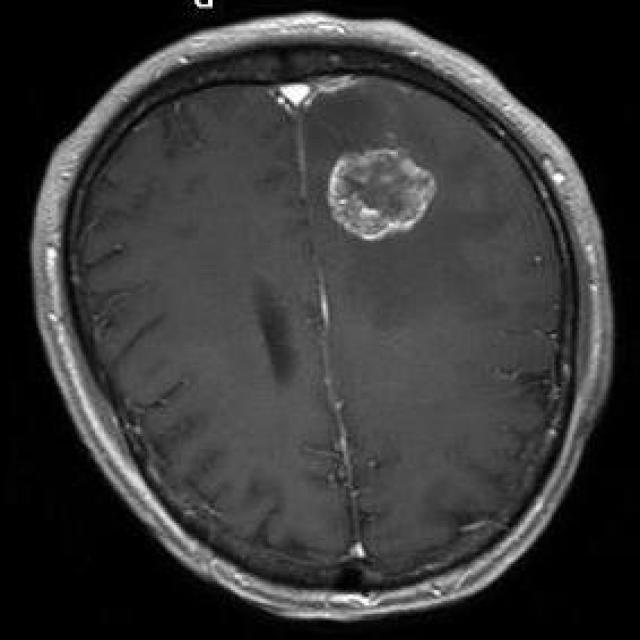Tumor-Cell: (332, 135, 444, 244)
